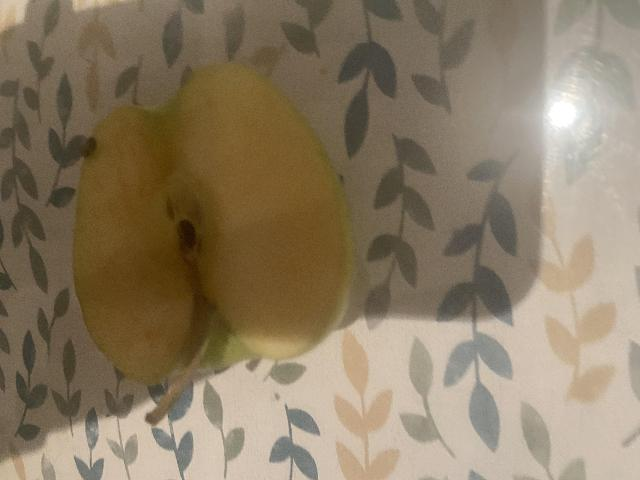Organik: (65, 51, 365, 416)
